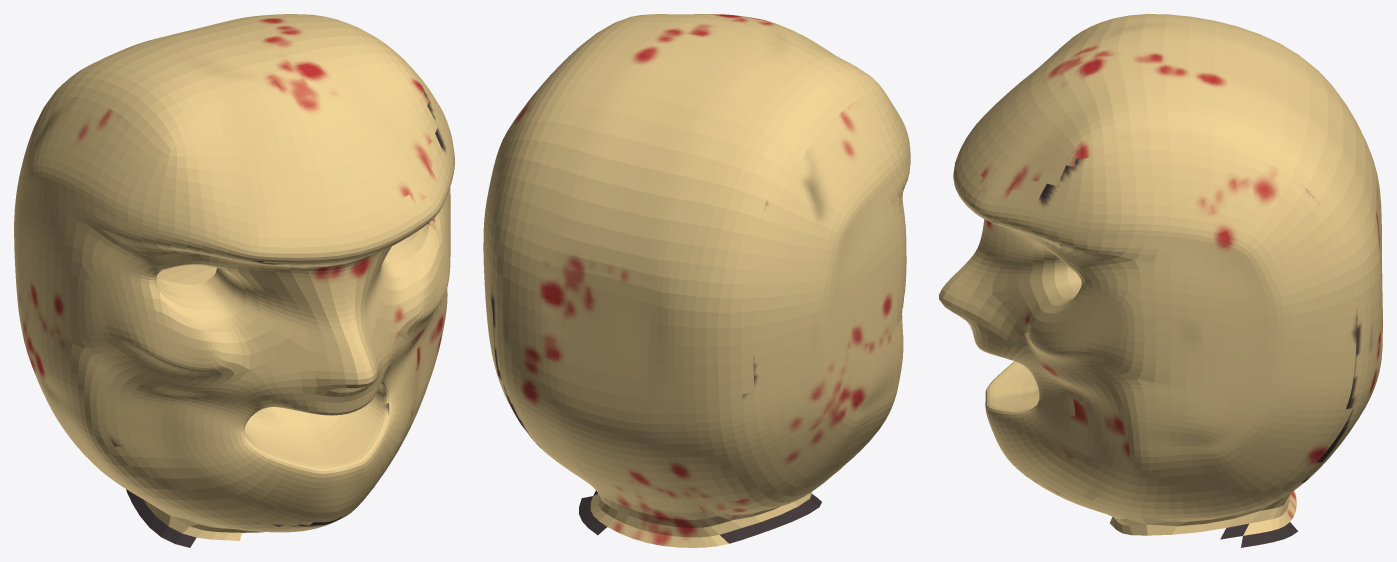
File: head.fbx
3 renders of one model, left to right at view 1: azimuth 30°, elevation 25°; view 2: azimuth 150°, elevation 25°; view 3: azimuth 270°, elevation 25°, orthographic. The views are drawn at different scales.
Visible parts, largest first — view 1: HEAD; view 2: HEAD; view 3: HEAD.
Part boxes in pixels (x1,y1,x2,y2): HEAD: [14, 14, 454, 547]; HEAD: [483, 14, 910, 547]; HEAD: [939, 14, 1382, 547].
Size of the model in its own units: 68.15 by 82.81 by 72.63.
